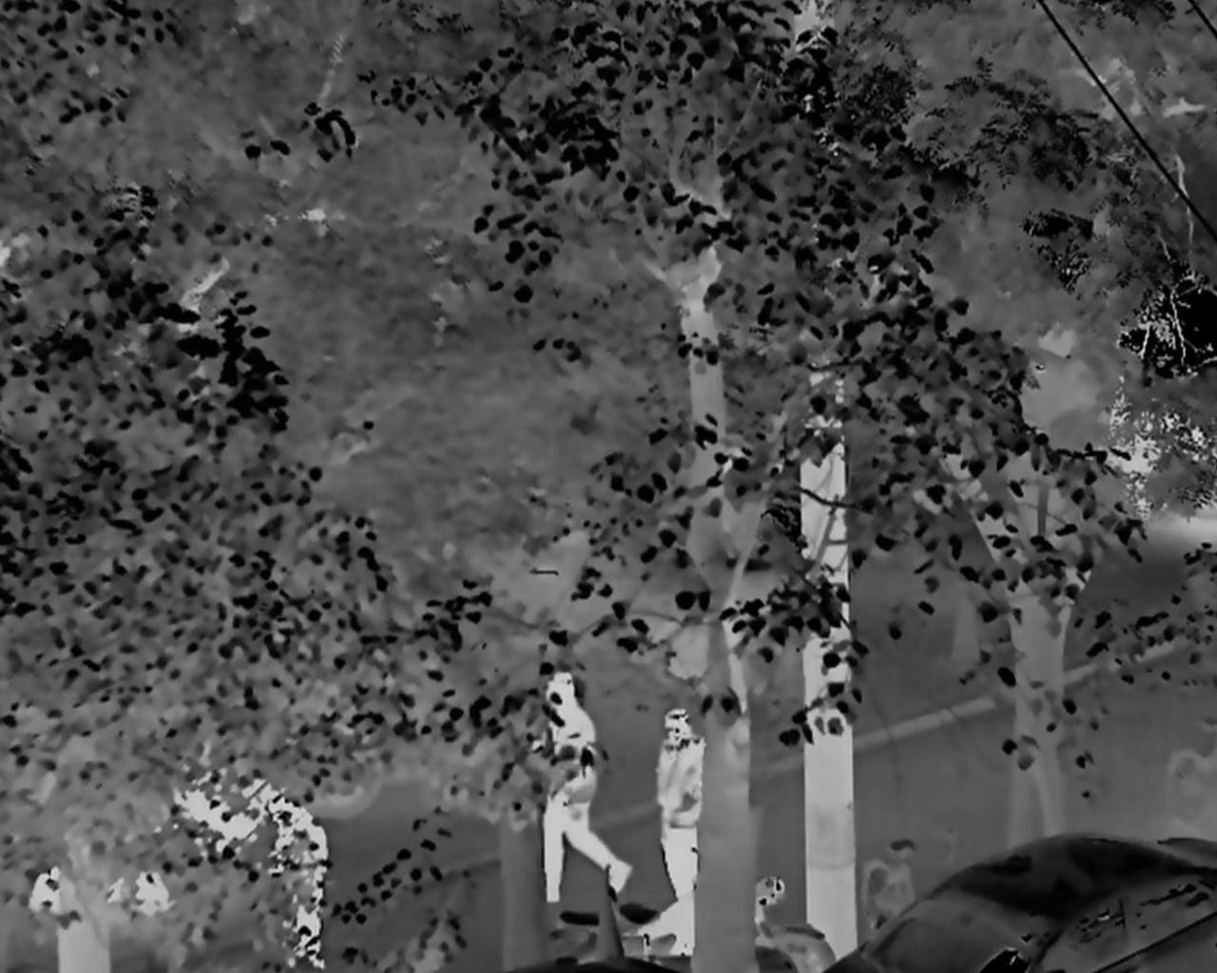person: (538, 672, 633, 905), (266, 795, 328, 969), (654, 708, 703, 897)
